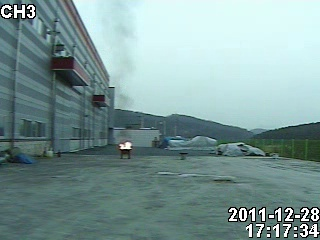fire: (118, 140, 131, 152)
smoke: (95, 2, 144, 117)
